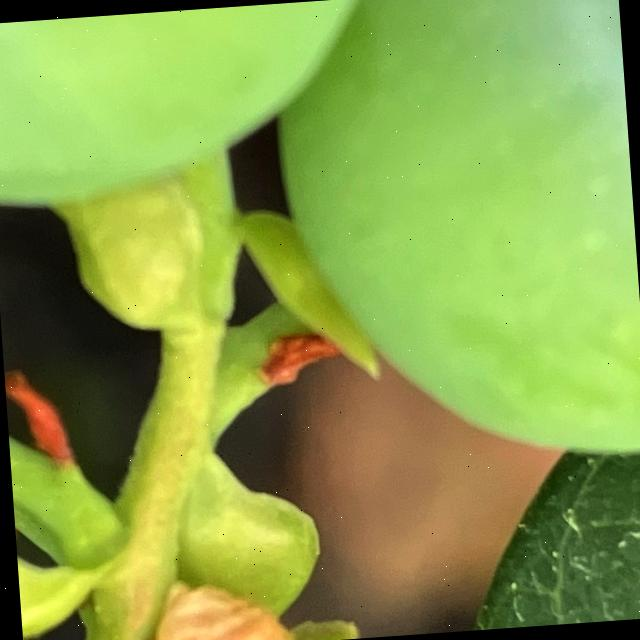Blueberries: (261, 0, 640, 483), (0, 0, 417, 216)
